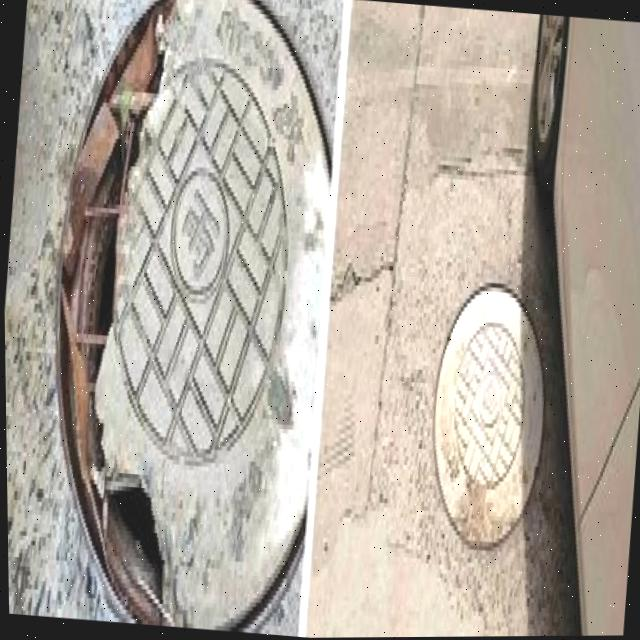manhole: (18, 0, 346, 629)
